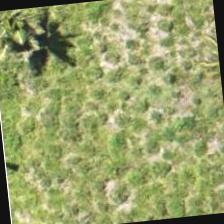Kelapa_Sawit: (0, 4, 77, 70)
